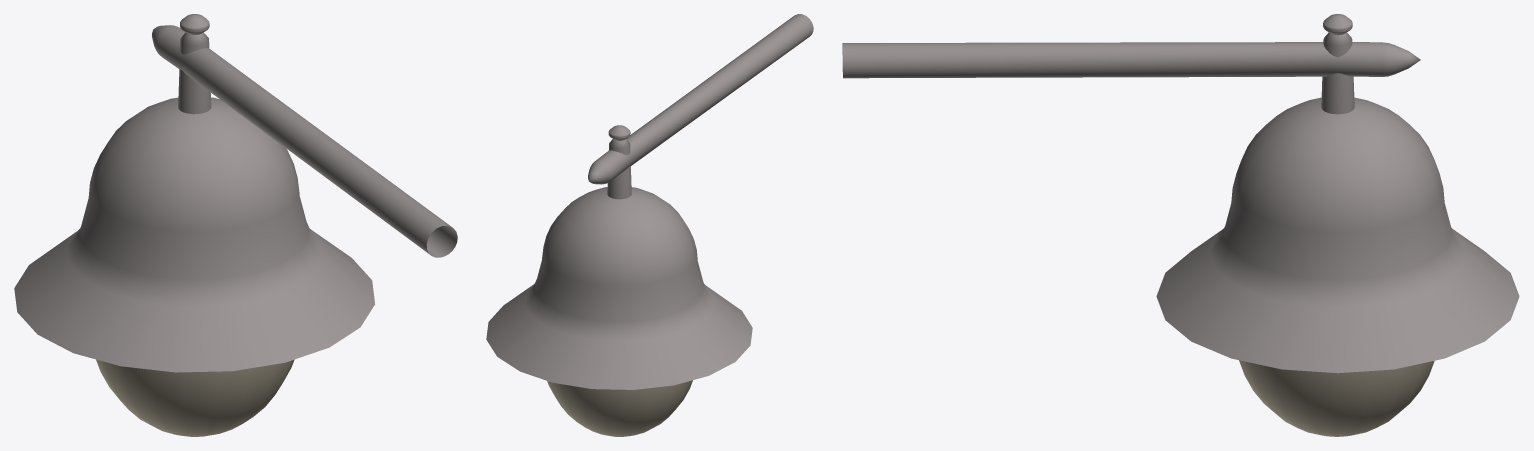
File: P_Lampadaire_Small.fbx
The picture shows the model from 3 angles, left to right: view 1: azimuth 30°, elevation 25°; view 2: azimuth 150°, elevation 25°; view 3: azimuth 270°, elevation 25°; orthographic projection. The views are drawn at different scales.
Parts seen in each view (by area): view 1: P_Lampadaire_Small; view 2: P_Lampadaire_Small; view 3: P_Lampadaire_Small.
Boxes of the visible parts, <box> form: P_Lampadaire_Small: <box>14,14,457,436</box>; P_Lampadaire_Small: <box>486,14,813,436</box>; P_Lampadaire_Small: <box>842,14,1519,436</box>.
Size of the model in its own units: 0.6651 by 0.8361 by 1.24.
